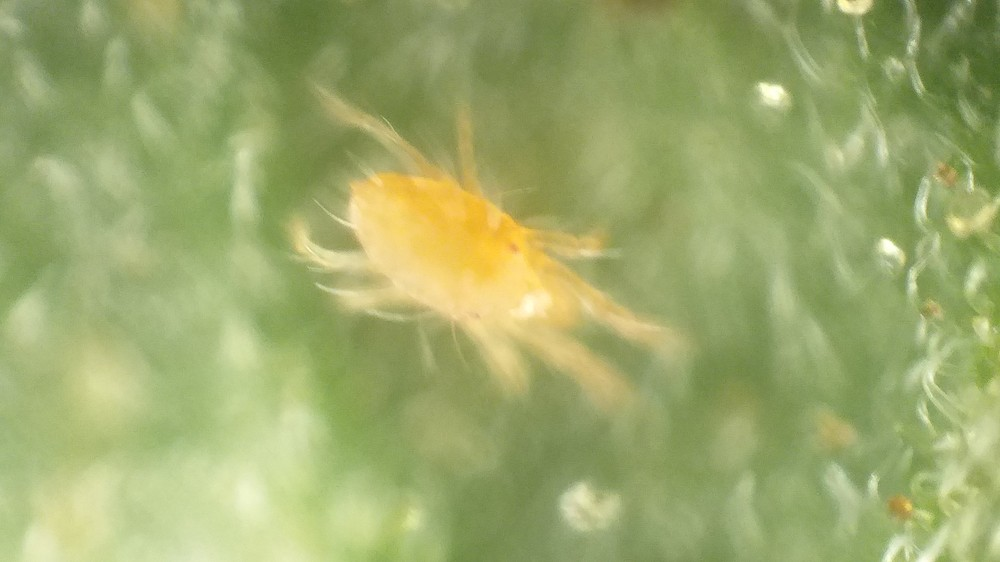Aracnido Rojo: (264, 77, 722, 443)
